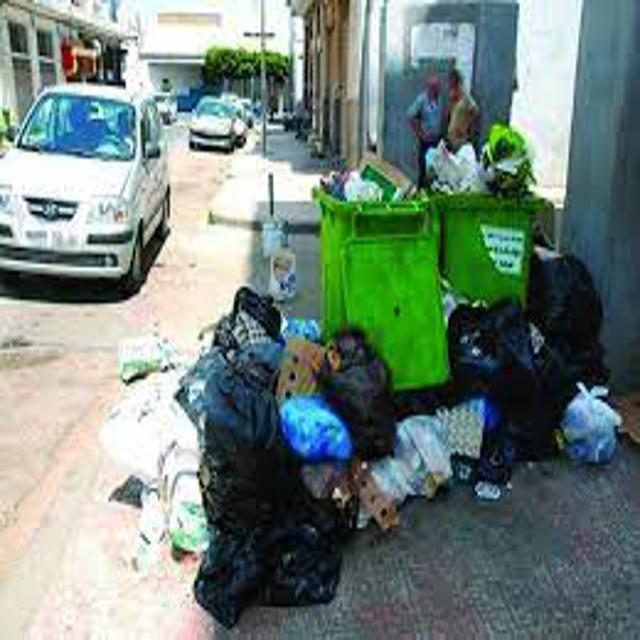garbage: (172, 125, 640, 632)
